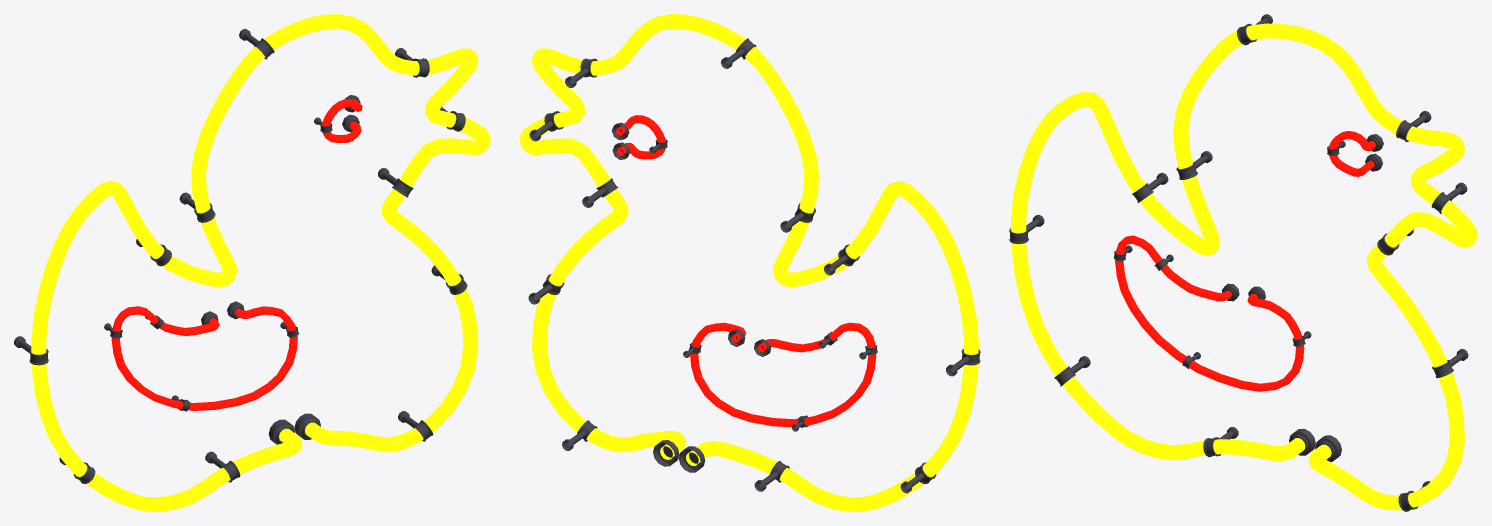
File: Light_Neon_Duck.glb
The picture shows the model from 3 angles, left to right: view 1: azimuth 30°, elevation 25°; view 2: azimuth 150°, elevation 25°; view 3: azimuth 330°, elevation 25°; orthographic projection.
Parts seen in each view (by area): view 1: Light_Neon_Duck.001; view 2: Light_Neon_Duck.001; view 3: Light_Neon_Duck.001.
Boxes of the visible parts, left/top/right/bottom form: Light_Neon_Duck.001: left=14, top=14, right=490, bottom=511; Light_Neon_Duck.001: left=519, top=14, right=980, bottom=511; Light_Neon_Duck.001: left=1009, top=14, right=1477, bottom=511.
Bounding box in the file's own units: 1.09 × 1.03 × 0.1039.
